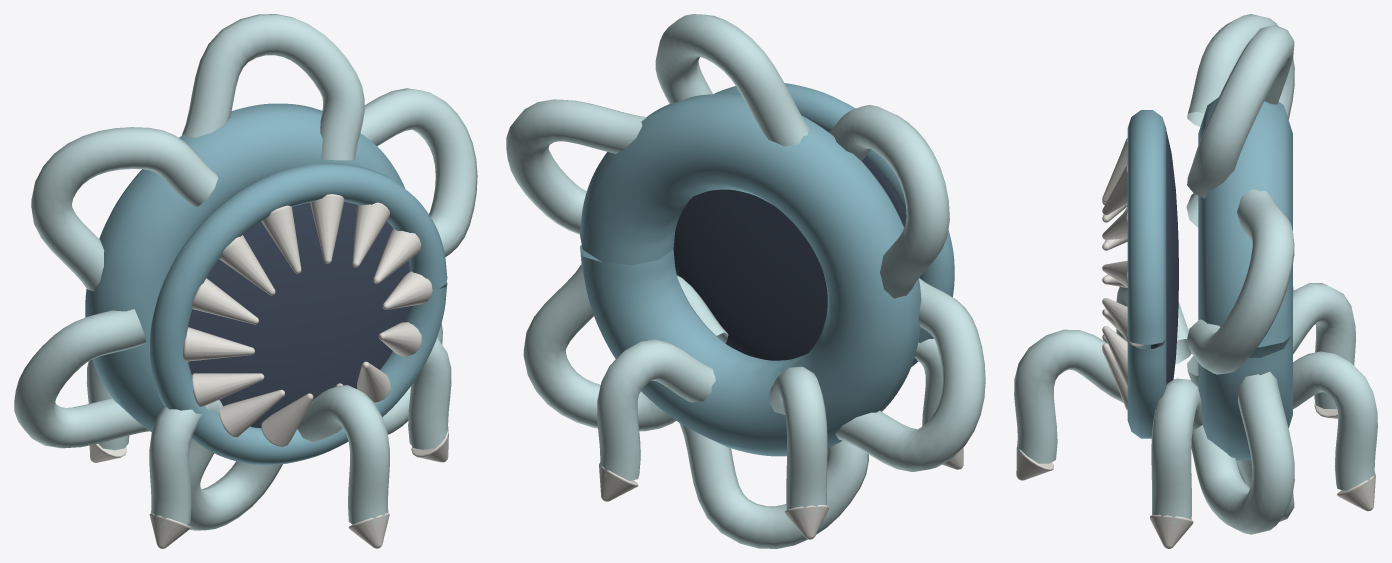
File: bio_spiral_maw_06_near.glb
The picture shows the model from 3 angles, left to right: view 1: azimuth 30°, elevation 25°; view 2: azimuth 150°, elevation 25°; view 3: azimuth 270°, elevation 25°; orthographic projection. The views are drawn at different scales.
Visible parts, largest first — view 1: Recessed mouth cavity, Raised oral lip, Rear muscular torus, Inward tooth, Coiling oral limb.001, Coiling oral limb.002, Coiling oral limb.003, Coiling oral limb, Crooked support.003, Crooked support.002, Coiling oral limb.004, Crooked support.004 (+4 smaller); view 2: Rear muscular torus, Recessed mouth cavity, Coiling oral limb.003, Coiling oral limb.002, Coiling oral limb.001, Coiling oral limb, Coiling oral limb.004, Crooked support, Coiling oral limb.005, Crooked support.001, Raised oral lip, Crooked support.002 (+3 smaller); view 3: Rear muscular torus, Raised oral lip, Coiling oral limb.005, Coiling oral limb, Coiling oral limb.001, Crooked support.003, Crooked support, Crooked support.004, Inward tooth, Crooked support.001, Coiling oral limb.002, Recessed mouth cavity (+5 smaller).
Boxes of the visible parts, x1,y1,x2,y2 form: Recessed mouth cavity: [188, 201, 409, 427]; Raised oral lip: [150, 163, 447, 464]; Rear muscular torus: [85, 103, 405, 432]; Inward tooth: [183, 194, 432, 446]; Coiling oral limb.001: [182, 14, 364, 160]; Coiling oral limb.002: [31, 127, 217, 291]; Coiling oral limb.003: [14, 309, 149, 448]; Coiling oral limb: [360, 88, 477, 256]; Crooked support.003: [297, 385, 389, 524]; Crooked support.002: [149, 400, 222, 524]; Coiling oral limb.004: [187, 439, 282, 530]; Crooked support.004: [408, 338, 451, 449]; Rear muscular torus: [580, 94, 921, 456]; Recessed mouth cavity: [673, 118, 921, 360]; Coiling oral limb.003: [835, 278, 985, 471]; Coiling oral limb.002: [829, 105, 949, 298]; Coiling oral limb.001: [655, 14, 808, 146]; Coiling oral limb: [506, 99, 646, 234]; Coiling oral limb.004: [679, 423, 868, 548]; Crooked support: [597, 339, 715, 480]; Coiling oral limb.005: [523, 261, 675, 431]; Crooked support.001: [768, 366, 827, 513]; Raised oral lip: [714, 83, 954, 366]; Crooked support.002: [914, 339, 942, 426]; Rear muscular torus: [1198, 97, 1292, 460]; Raised oral lip: [1127, 110, 1166, 438]; Coiling oral limb.005: [1191, 371, 1294, 534]; Coiling oral limb: [1186, 189, 1294, 374]; Coiling oral limb.001: [1187, 25, 1294, 198]; Crooked support.003: [1014, 329, 1123, 463]; Crooked support: [1293, 351, 1377, 490]; Crooked support.004: [1151, 378, 1202, 523]; Inward tooth: [1102, 138, 1145, 410]; Crooked support.001: [1293, 283, 1355, 408]; Coiling oral limb.002: [1187, 14, 1294, 126]; Recessed mouth cavity: [1151, 131, 1178, 384].
Size of the model in its own units: 2.49 by 2.61 by 1.7.
